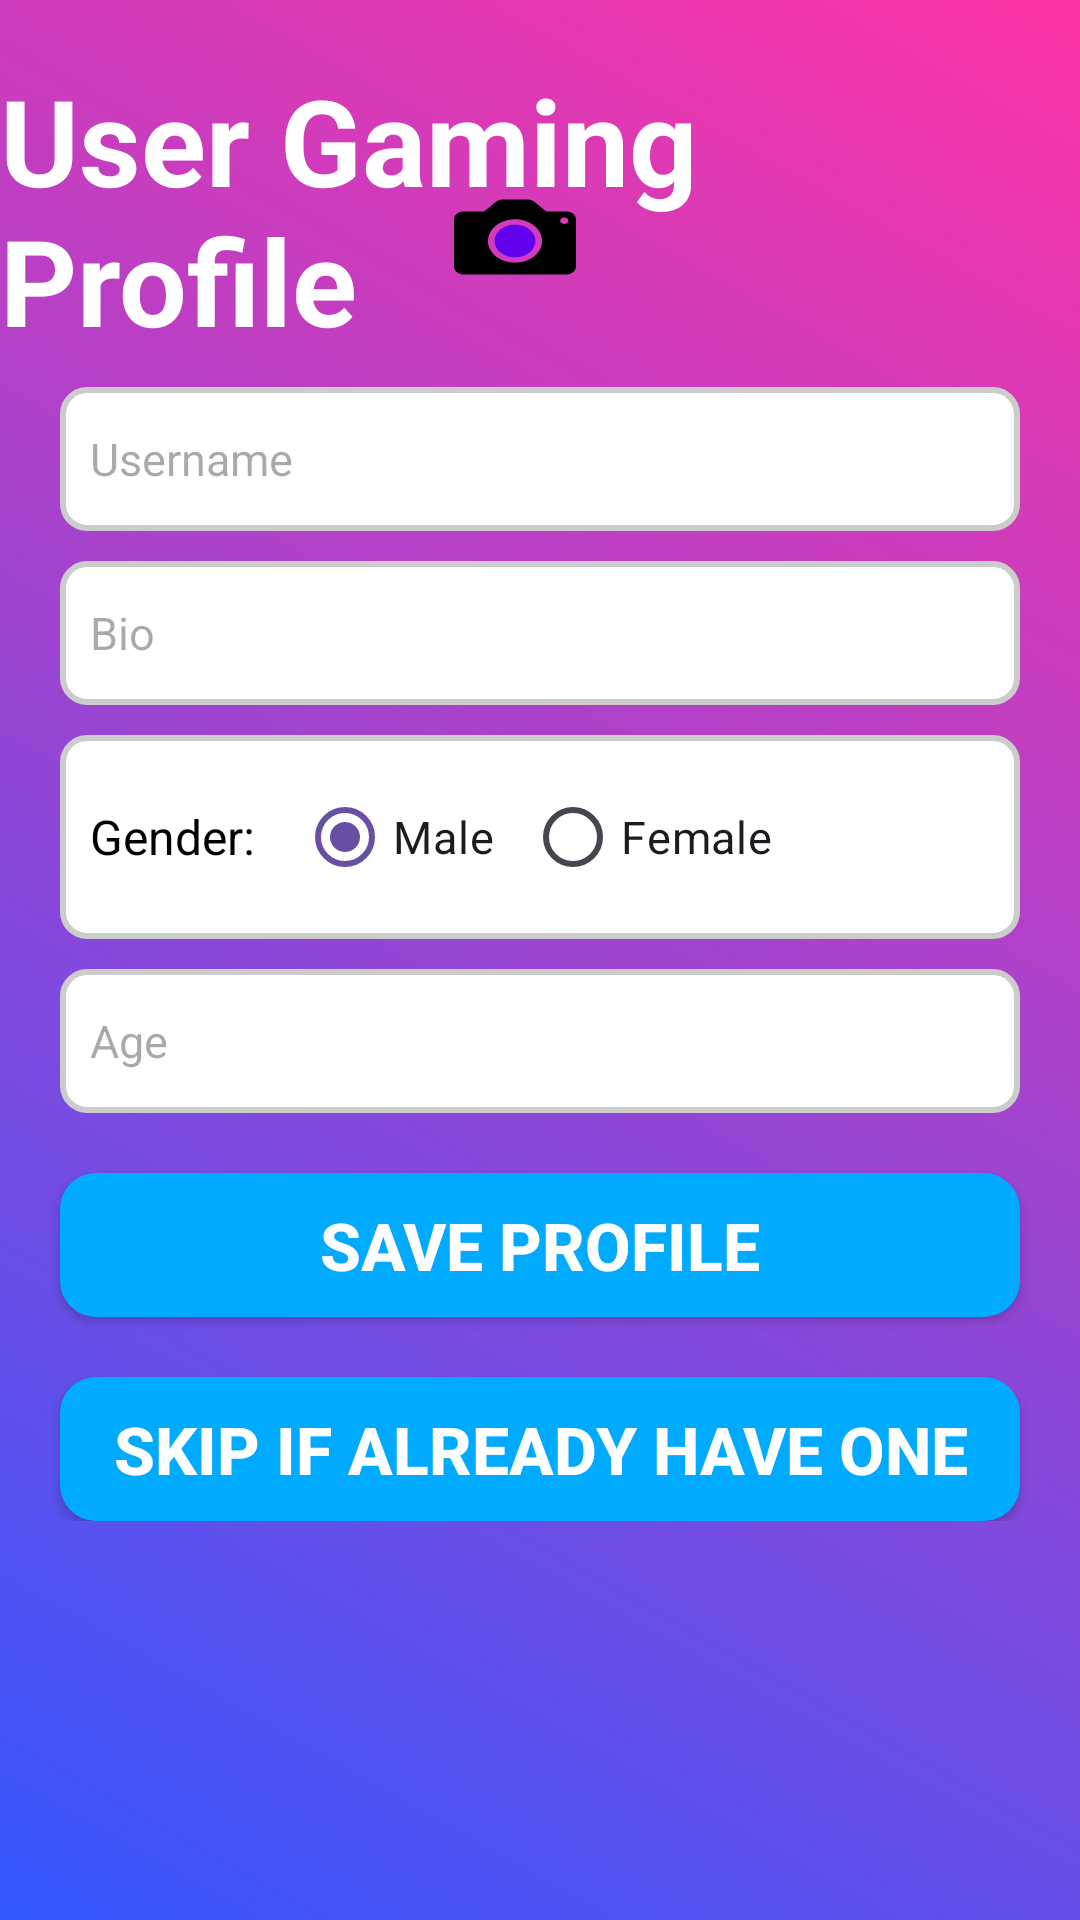

Icons on this 1080 × 1920 Android screen, each with the point to tap as (x=x, y=y):
camera: (x=515, y=237)
